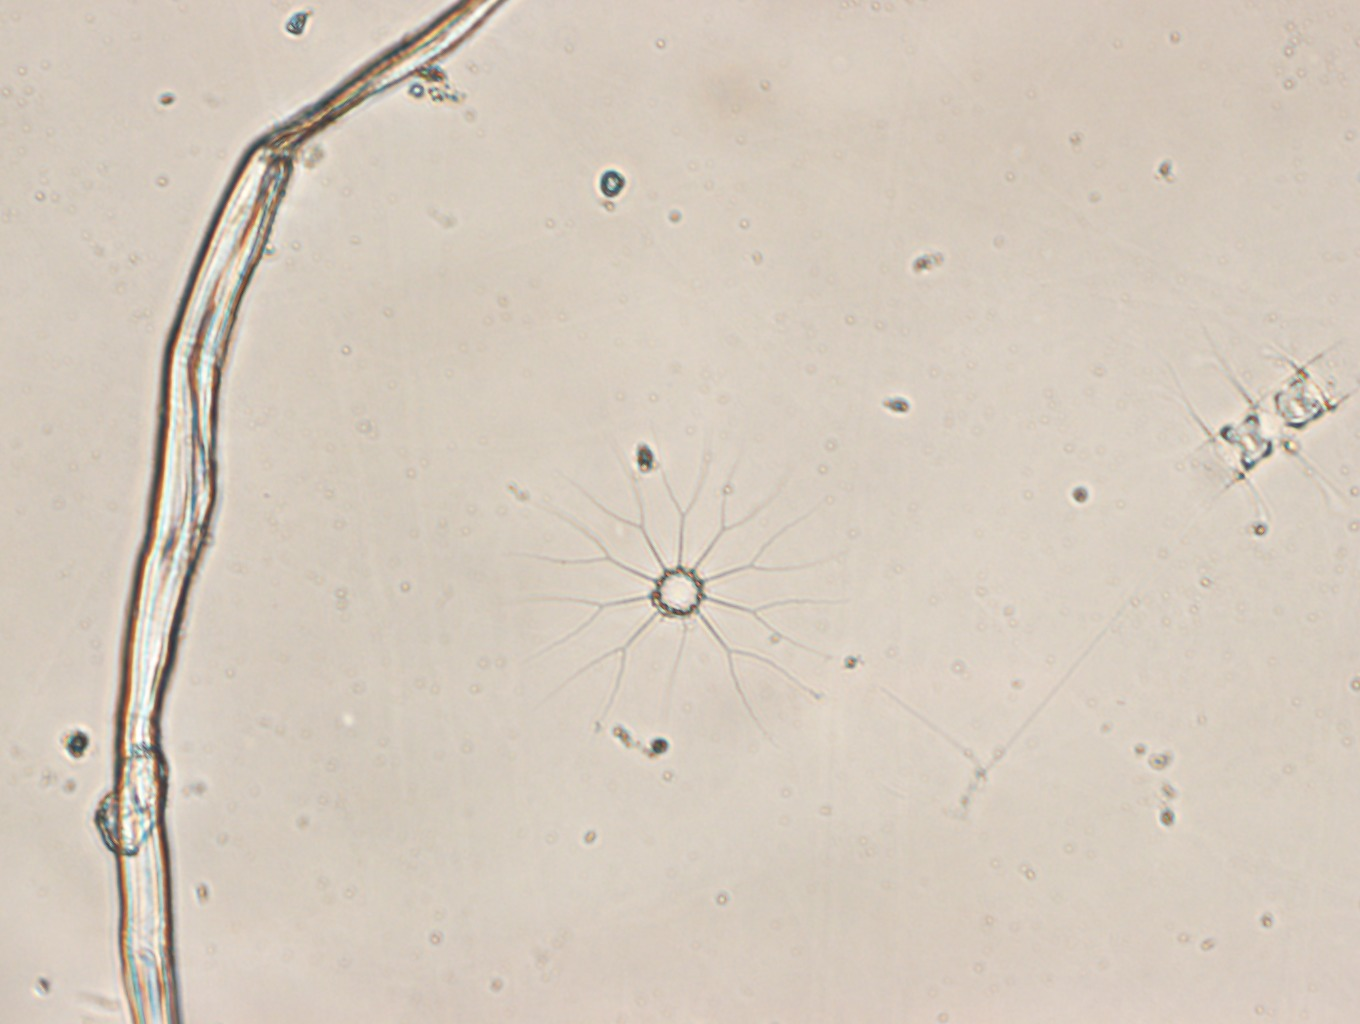bacteriastrum: (516, 430, 845, 748)
chaetoceros: (1163, 317, 1360, 530)
